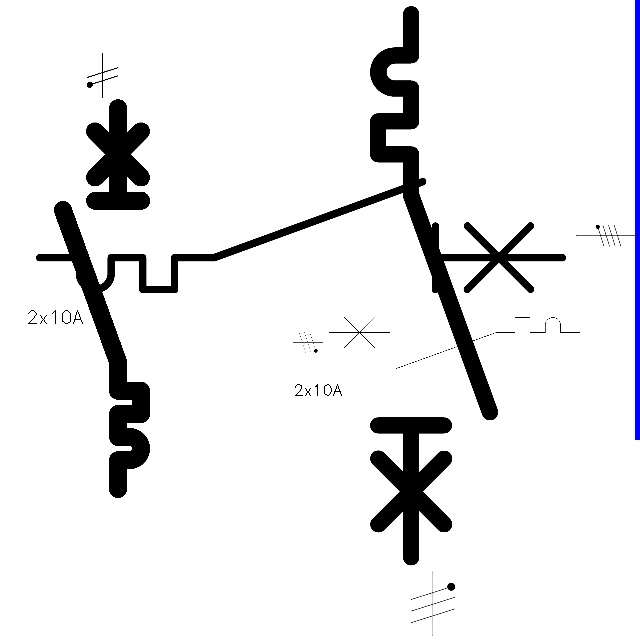interruptor_termomagnetico: (364, 0, 504, 571), (26, 168, 576, 303), (53, 98, 151, 498), (322, 311, 585, 375)
